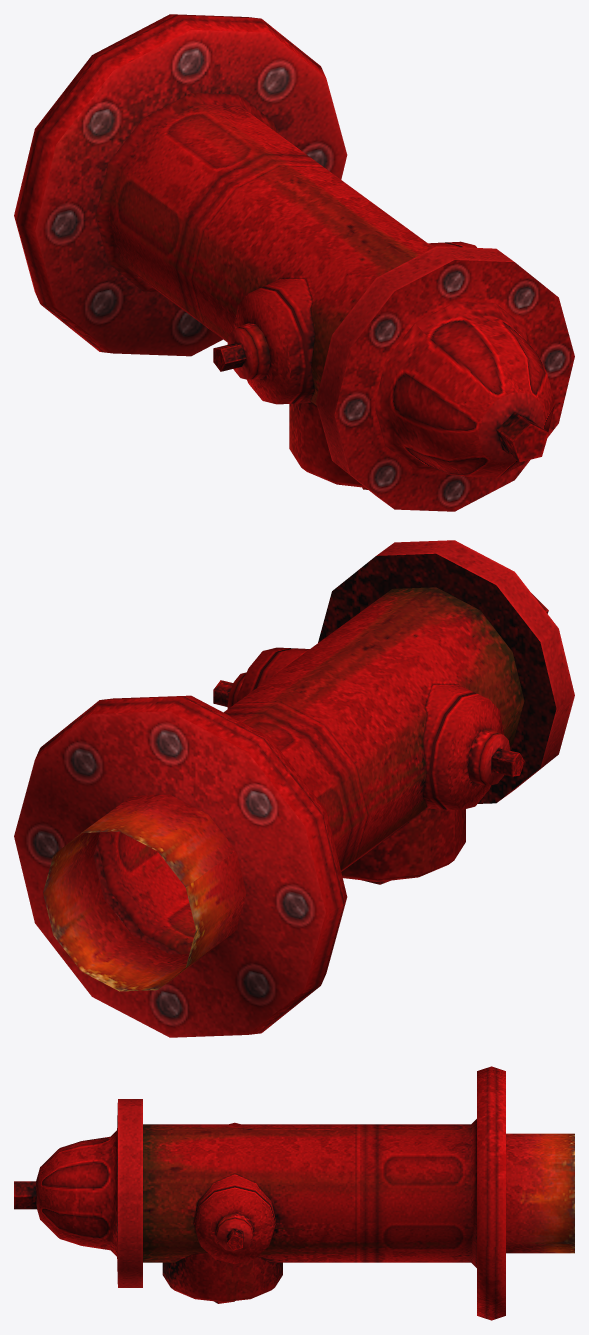
File: fire_hydrant.obj
3 renders of one model, top to bottom at view 1: azimuth 30°, elevation 25°; view 2: azimuth 150°, elevation 25°; view 3: azimuth 270°, elevation 25°, orthographic. The views are drawn at different scales.
Parts seen in each view (by area): view 1: fire_hydrant; view 2: fire_hydrant; view 3: fire_hydrant.
Part boxes in pixels (left/top/right/bottom): fire_hydrant: left=14, top=14, right=574, bottom=511; fire_hydrant: left=14, top=540, right=574, bottom=1037; fire_hydrant: left=14, top=1066, right=574, bottom=1320.
Size of the model in its own units: 0.4236 by 0.4236 by 0.9313.
Materials: 1 (1 with a texture image).
